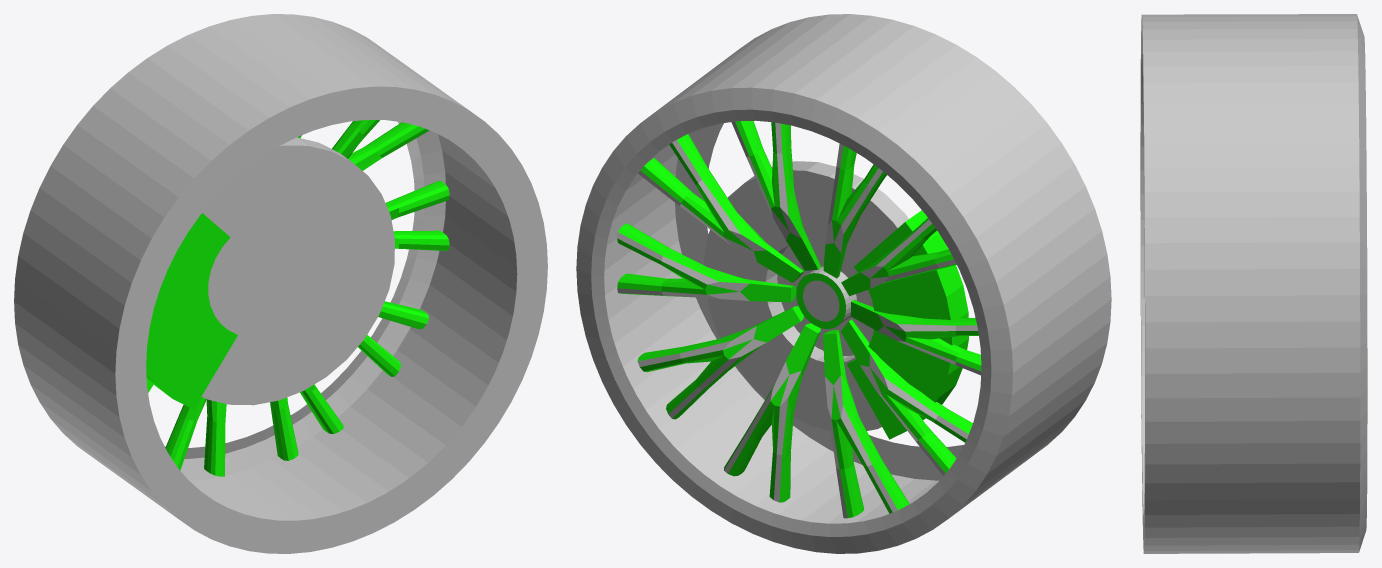
The model's file is llantaderm.obj.
The picture shows the model from 3 angles, left to right: view 1: azimuth 30°, elevation 25°; view 2: azimuth 150°, elevation 25°; view 3: azimuth 270°, elevation 25°; orthographic projection. The views are drawn at different scales.
Visible parts, largest first — view 1: Rubber/Brakes_Circle.004, Spokes_Plane.006; view 2: Rubber/Brakes_Circle.004, Spokes_Plane.006; view 3: Rubber/Brakes_Circle.004.
Boxes of the visible parts, left/top/right/bottom form: Rubber/Brakes_Circle.004: left=14, top=14, right=547, bottom=553; Spokes_Plane.006: left=146, top=120, right=449, bottom=476; Rubber/Brakes_Circle.004: left=576, top=14, right=1111, bottom=553; Spokes_Plane.006: left=617, top=121, right=981, bottom=518; Rubber/Brakes_Circle.004: left=1140, top=14, right=1367, bottom=553.
Bounding box in the file's own units: 1.41 × 1.4 × 0.5903.
